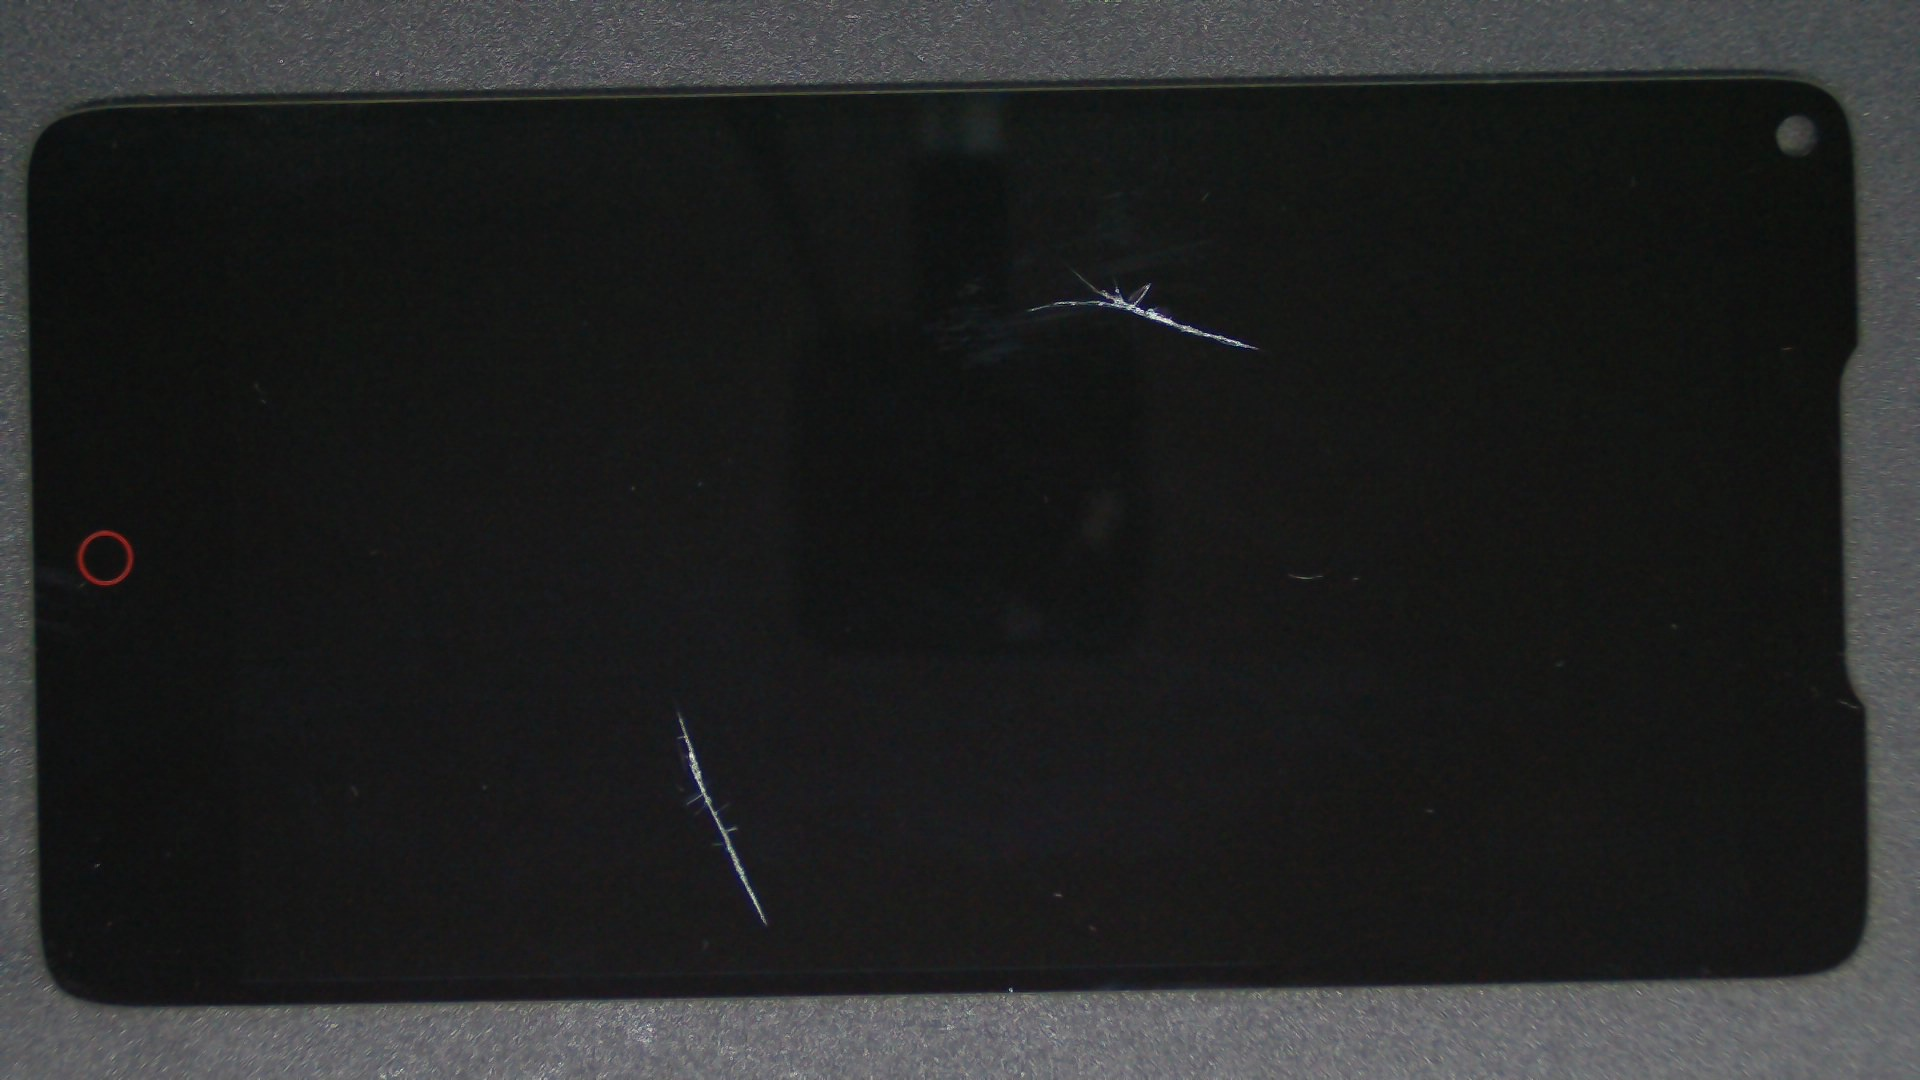oil: (340, 353, 1018, 1065), (538, 135, 1611, 407)
